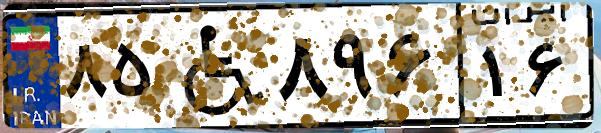1: (475, 38, 525, 113)
5: (110, 28, 158, 98)
6: (385, 28, 445, 110), (525, 38, 570, 115)
8: (270, 28, 330, 110), (57, 26, 110, 100)
9: (330, 28, 385, 110)
ژ (معلولین و جانبازان): (158, 12, 270, 120)
